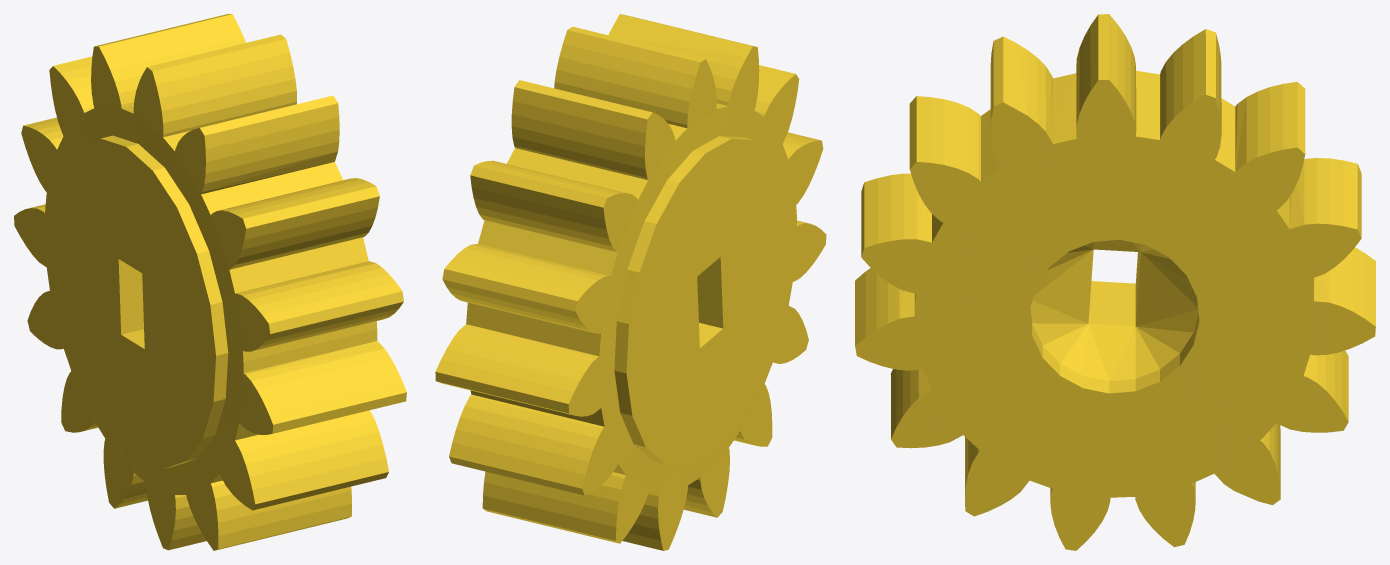
Rendered from right_shoulder_z_link_visual_9.obj.light.glb.
The picture shows the model from 3 angles, left to right: view 1: azimuth 30°, elevation 25°; view 2: azimuth 150°, elevation 25°; view 3: azimuth 270°, elevation 25°; orthographic projection.
Bounding box in the file's own units: 0.0675 × 0.2062 × 0.2064.
